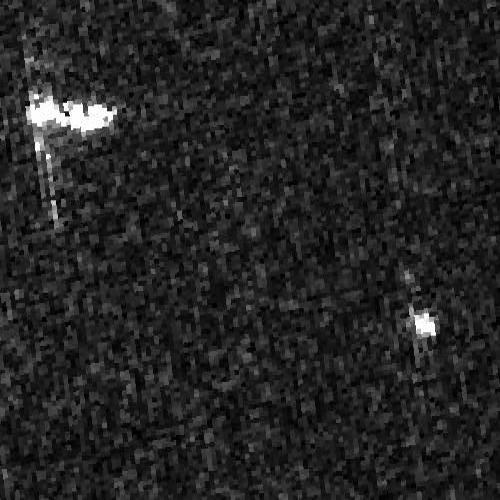ship: (24, 93, 119, 136), (412, 309, 437, 339)
